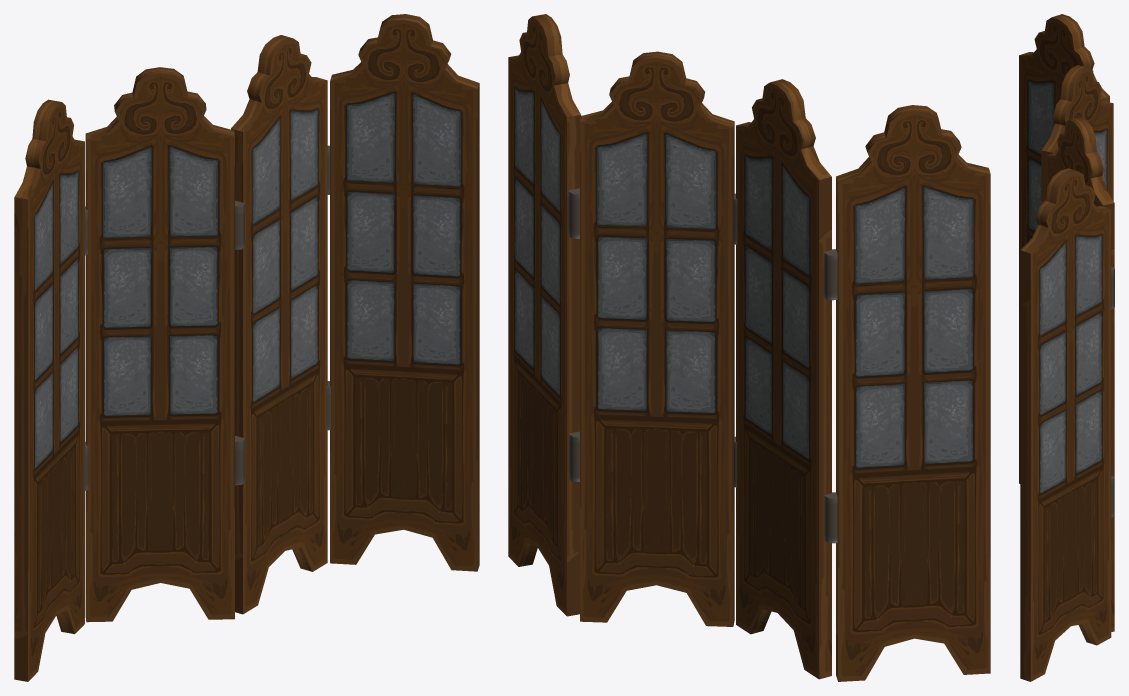
The model's file is SM_PROP_paravan_interior.fbx.
3 views of the same model, side by side, from view 1: azimuth 30°, elevation 25°; view 2: azimuth 150°, elevation 25°; view 3: azimuth 270°, elevation 25° (orthographic). The views are drawn at different scales.
Visible parts, largest first — view 1: SM_PROP_paravan_interior; view 2: SM_PROP_paravan_interior; view 3: SM_PROP_paravan_interior.
Part boxes in pixels (x1,y1,x2,y2): SM_PROP_paravan_interior: [14, 14, 479, 681]; SM_PROP_paravan_interior: [508, 14, 990, 681]; SM_PROP_paravan_interior: [1019, 14, 1114, 681].
Size of what is drawn, in the model's own units: 181 by 203 by 36.26.
